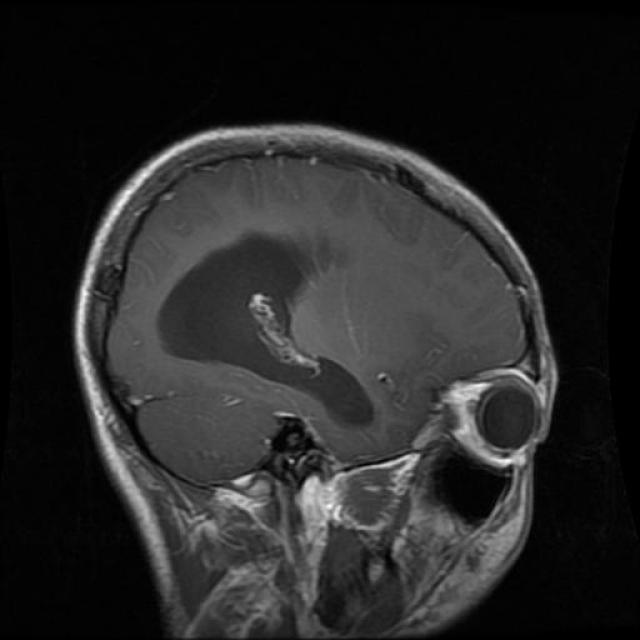Brain-Tumor: (147, 226, 405, 437)
eye: (441, 356, 564, 481)
